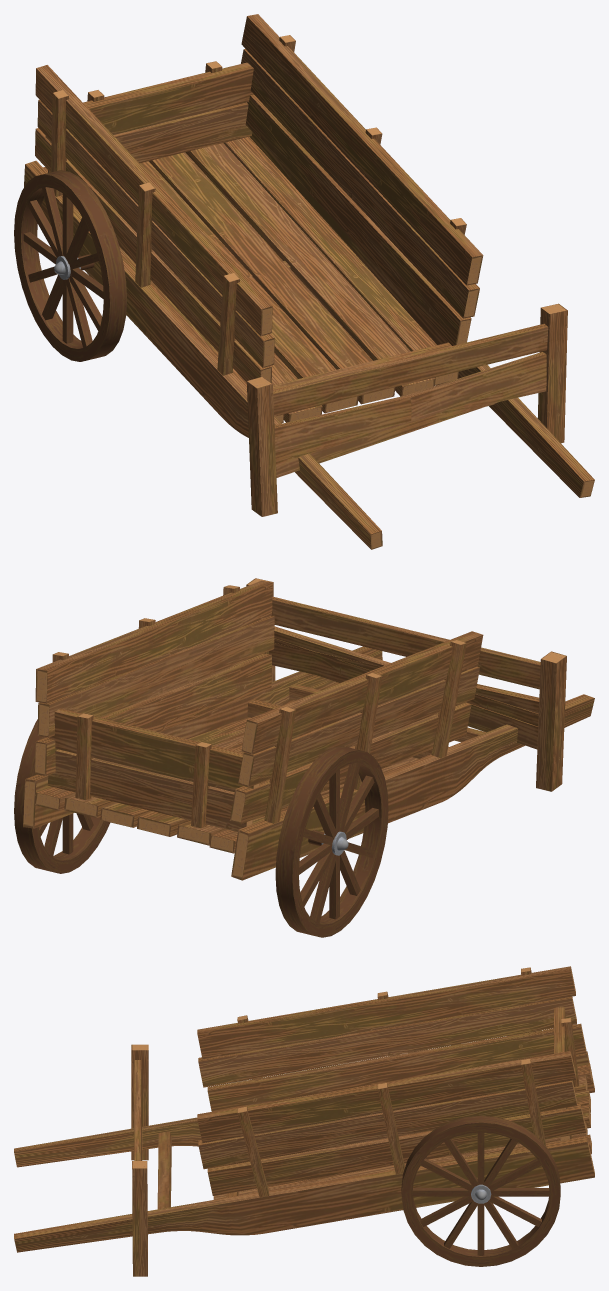
The model's file is village-fence.glb.
3 views of the same model, one above another, from view 1: azimuth 30°, elevation 25°; view 2: azimuth 150°, elevation 25°; view 3: azimuth 270°, elevation 25° (orthographic). The views are drawn at different scales.
Parts seen in each view (by area): view 1: Prop_Wagon, Prop_WoodenFence_Extension2, Prop_WoodenFence_Single, Prop_WoodenFence_Extension1; view 2: Prop_Wagon, Prop_WoodenFence_Extension2, Prop_WoodenFence_Single, Prop_WoodenFence_Extension1; view 3: Prop_Wagon, Prop_WoodenFence_Single, Prop_WoodenFence_Extension1, Prop_WoodenFence_Extension2.
Part boxes in pixels (left/top/right/bottom): Prop_Wagon: left=14, top=14, right=594, bottom=549; Prop_WoodenFence_Extension2: left=273, top=306, right=567, bottom=452; Prop_WoodenFence_Single: left=246, top=310, right=567, bottom=516; Prop_WoodenFence_Extension1: left=273, top=303, right=567, bottom=477; Prop_Wagon: left=14, top=580, right=594, bottom=937; Prop_WoodenFence_Extension2: left=252, top=578, right=540, bottom=713; Prop_WoodenFence_Single: left=265, top=622, right=566, bottom=791; Prop_WoodenFence_Extension1: left=246, top=581, right=540, bottom=749; Prop_Wagon: left=14, top=966, right=594, bottom=1266; Prop_WoodenFence_Single: left=131, top=1044, right=148, bottom=1276; Prop_WoodenFence_Extension1: left=132, top=1060, right=147, bottom=1263; Prop_WoodenFence_Extension2: left=132, top=1060, right=147, bottom=1193.
Size of the model in its own units: 2.06 by 1.56 by 4.02.
Materials: 1 (1 with a texture image).
